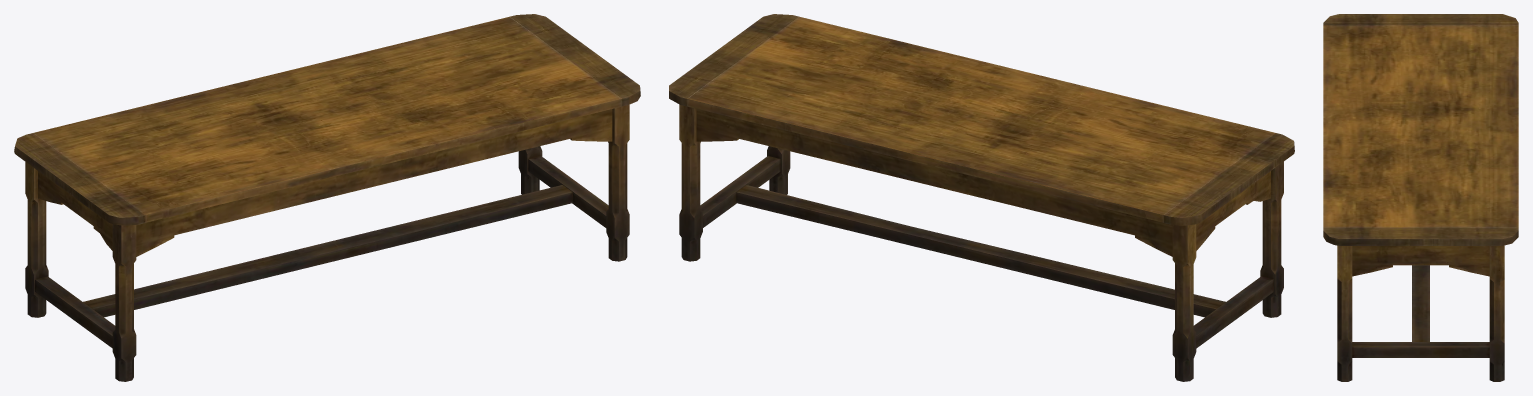
File: WoodenTable_01.glb
3 renders of one model, left to right at view 1: azimuth 30°, elevation 25°; view 2: azimuth 150°, elevation 25°; view 3: azimuth 270°, elevation 25°, orthographic. The views are drawn at different scales.
Visible parts, largest first — view 1: WoodenTable_01; view 2: WoodenTable_01; view 3: WoodenTable_01.
Boxes of the visible parts, bbox=[...] form: WoodenTable_01: bbox=[14, 14, 640, 381]; WoodenTable_01: bbox=[669, 14, 1294, 381]; WoodenTable_01: bbox=[1323, 14, 1518, 381].
Size of the model in its own units: 1.79 by 0.5489 by 0.6571.
Materials: 1 (1 with a texture image).
